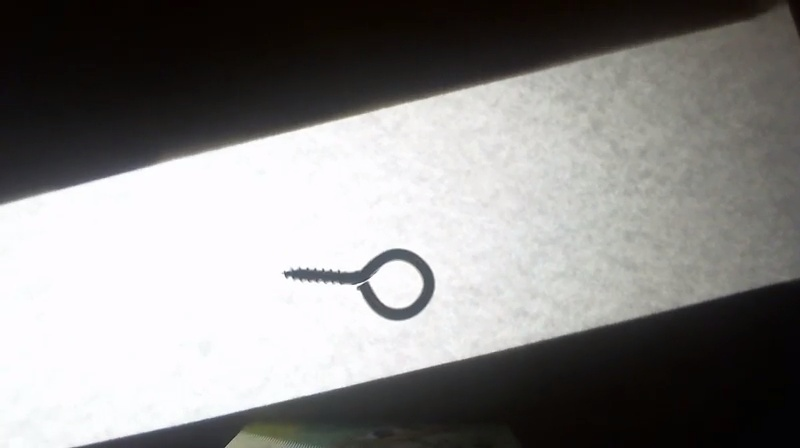O001: (277, 246, 439, 322)
